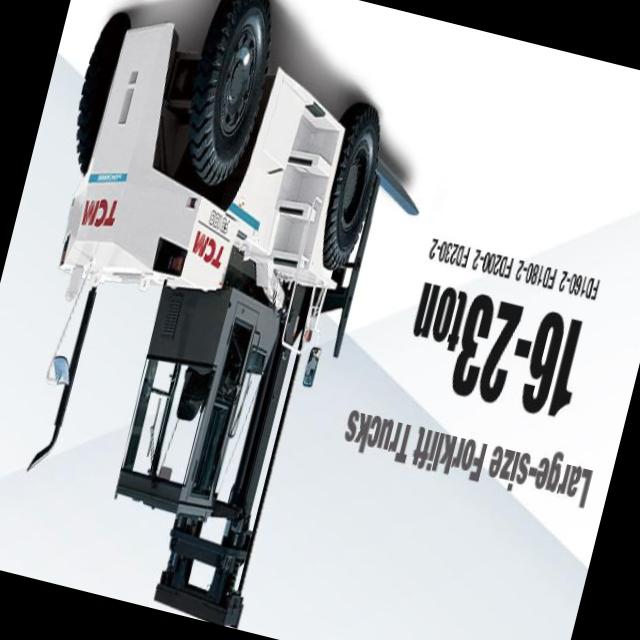forklift: (0, 0, 426, 637)
